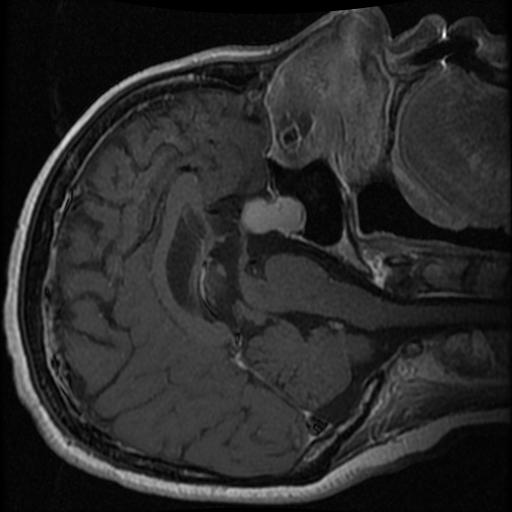pituitary tumour: (243, 195, 302, 234)
